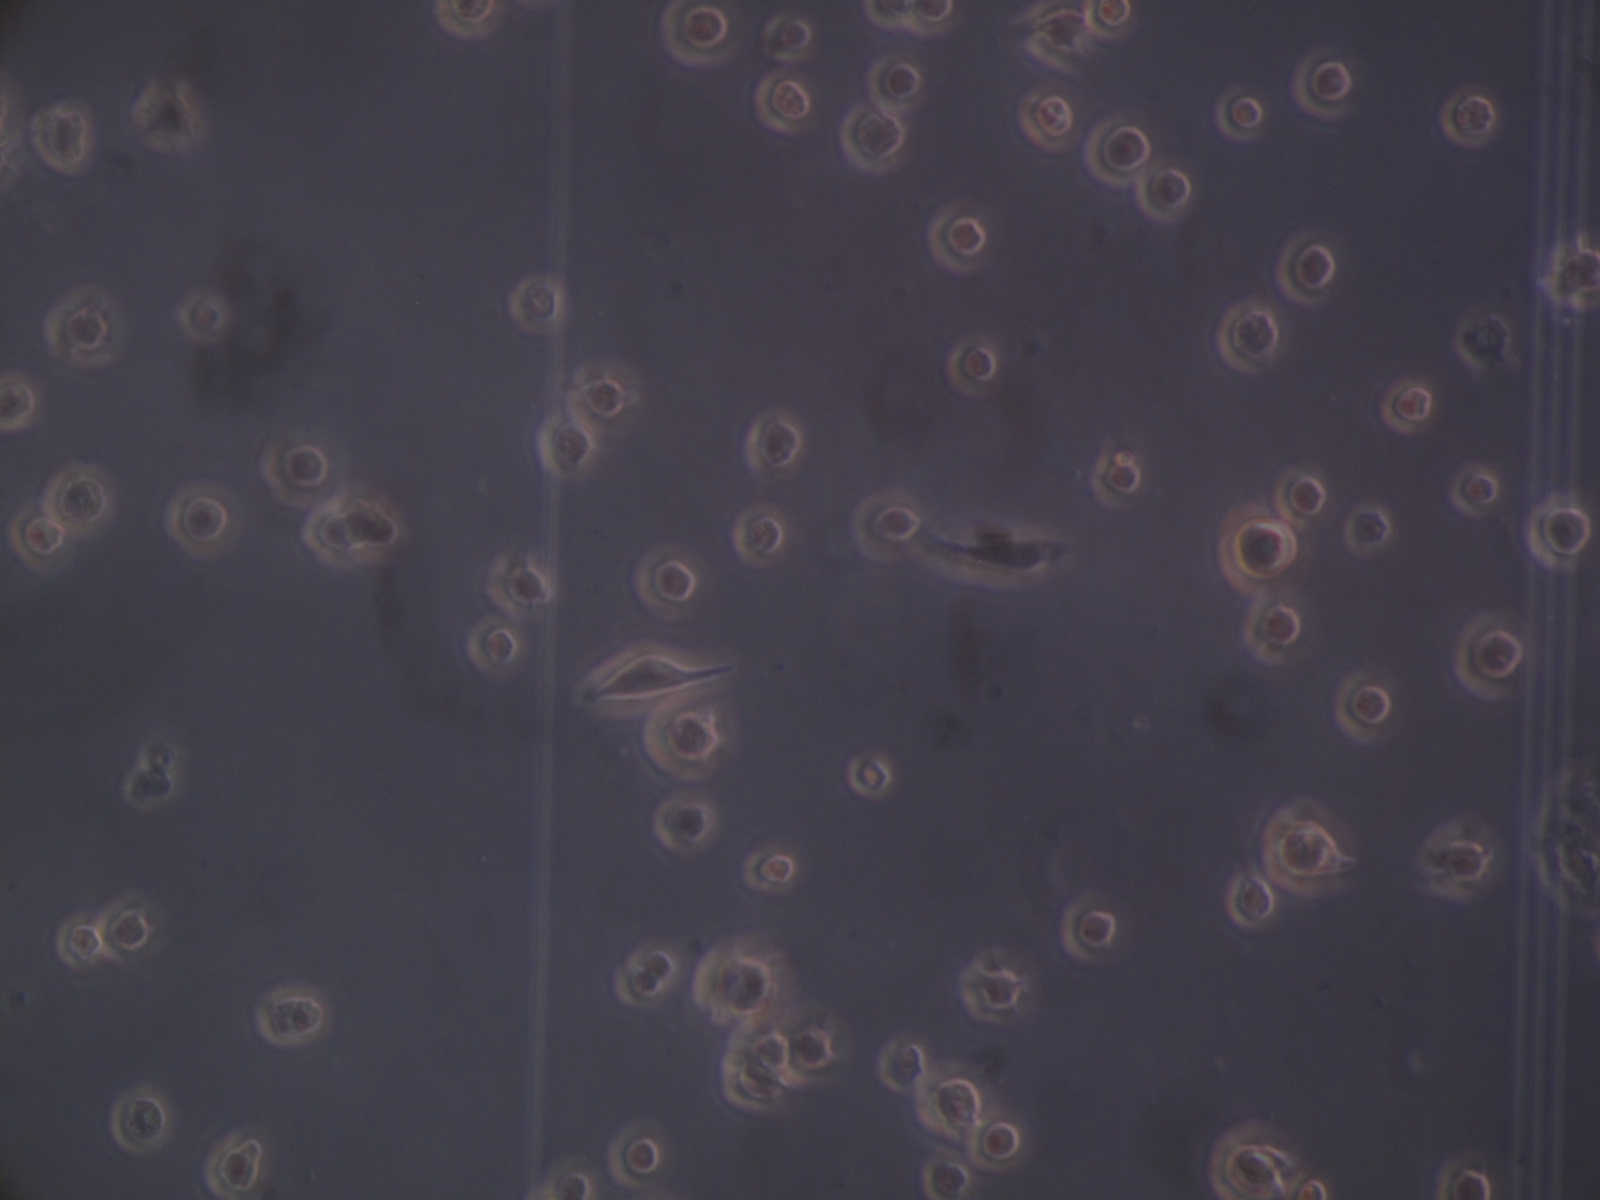hemo: (576, 640, 731, 716), (915, 516, 1065, 592), (1216, 504, 1296, 600), (1261, 800, 1338, 895), (1211, 1121, 1300, 1200), (640, 702, 723, 782), (44, 284, 123, 367), (258, 425, 338, 507), (1454, 613, 1524, 702), (159, 483, 241, 558), (694, 948, 779, 1021), (779, 1003, 853, 1082), (44, 459, 111, 537), (1524, 494, 1590, 574), (852, 490, 923, 560), (132, 76, 200, 149), (1086, 116, 1151, 192), (31, 103, 97, 179), (630, 543, 697, 616), (1421, 828, 1487, 900), (926, 204, 989, 279), (1214, 300, 1277, 374), (734, 1013, 799, 1085), (960, 950, 1024, 1021), (918, 1066, 983, 1137), (663, 1, 734, 64), (94, 887, 152, 964), (110, 1080, 168, 1155), (486, 550, 551, 616), (1241, 595, 1301, 666), (254, 984, 325, 1045), (1275, 232, 1334, 304), (344, 492, 408, 557), (300, 500, 359, 570), (1293, 49, 1351, 120), (840, 106, 903, 170), (1338, 669, 1391, 745), (535, 408, 593, 476), (721, 1060, 790, 1116), (1269, 466, 1328, 531), (1453, 310, 1513, 371), (508, 272, 564, 337), (607, 1121, 660, 1189), (729, 504, 786, 567), (743, 412, 800, 475), (753, 71, 809, 135), (963, 1114, 1020, 1175), (205, 1139, 263, 1200), (569, 371, 630, 429), (16, 500, 67, 570), (1134, 166, 1193, 224), (653, 797, 712, 855), (467, 619, 525, 678), (1060, 900, 1115, 962), (1547, 245, 1600, 308), (866, 58, 922, 113), (1441, 88, 1495, 146), (610, 957, 666, 1011), (1020, 93, 1073, 151), (1225, 868, 1274, 930), (1374, 383, 1434, 434), (537, 1156, 603, 1200), (947, 342, 999, 398), (1214, 86, 1265, 144), (433, 1, 504, 42), (879, 1037, 929, 1094), (1340, 502, 1393, 552), (55, 915, 103, 971), (1450, 463, 1495, 519), (763, 13, 813, 63), (181, 294, 231, 344), (1092, 463, 1144, 511), (626, 940, 685, 982), (1435, 1156, 1490, 1200), (117, 768, 175, 809), (1, 366, 37, 434), (1083, 1, 1140, 39), (743, 850, 792, 892), (847, 755, 893, 799), (906, 1, 959, 37), (923, 1160, 969, 1200), (137, 737, 175, 775), (860, 1, 910, 26)
